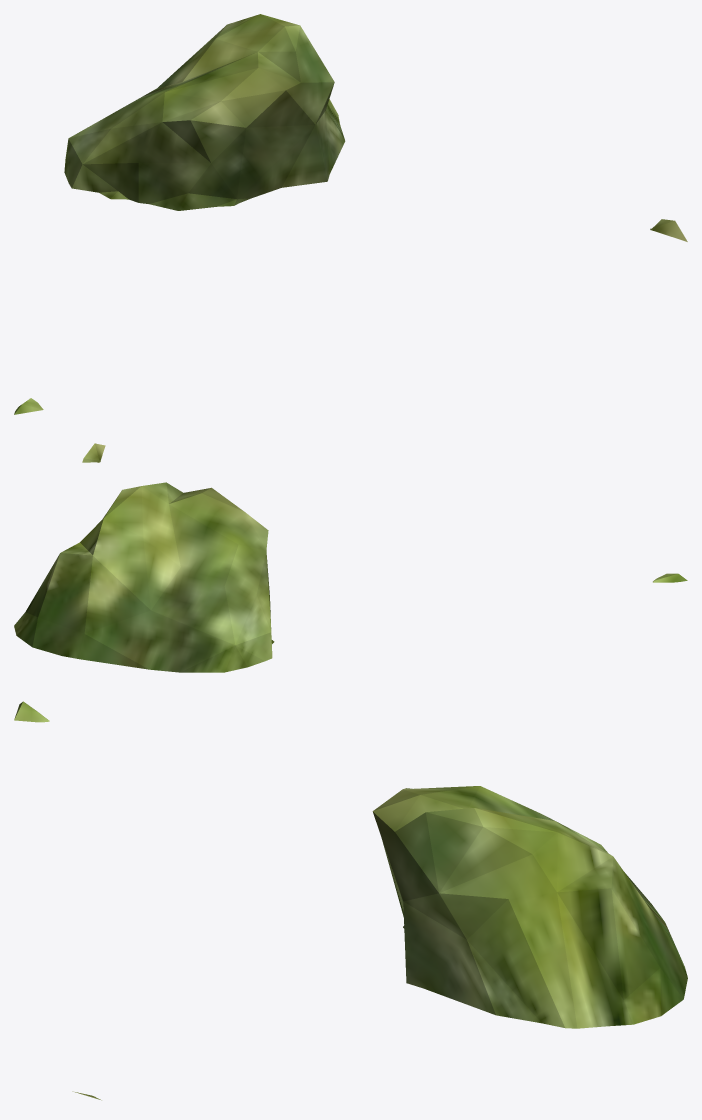
The picture shows the model from 3 angles, top to bottom: view 1: azimuth 30°, elevation 25°; view 2: azimuth 150°, elevation 25°; view 3: azimuth 270°, elevation 25°; orthographic projection. The views are drawn at different scales.
Size of the model in its own units: 1.41 by 0.2727 by 0.9995.
Materials: 1 (1 with a texture image).
